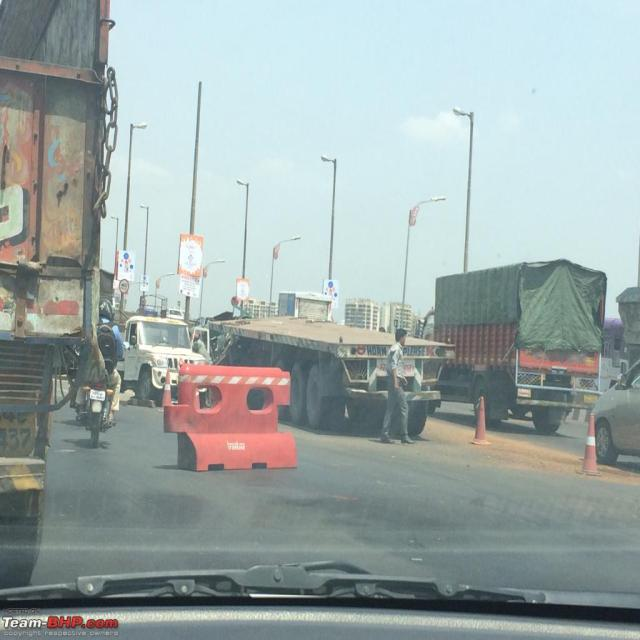car: (124, 315, 205, 400)
truck: (435, 260, 606, 433)
